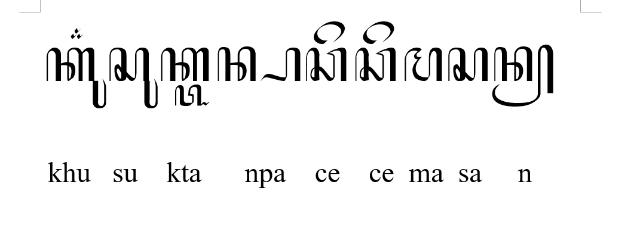-n: (492, 44, 554, 108)
_p: (260, 48, 300, 82)
_t: (174, 85, 210, 107)
alt: (70, 28, 84, 40)
c: (355, 47, 397, 83), (305, 48, 347, 82)
e: (362, 20, 394, 44), (314, 20, 344, 44)
k: (160, 48, 210, 82)
ku: (46, 46, 106, 110)
m: (403, 47, 443, 83)
n: (217, 46, 257, 84)
s: (447, 46, 489, 82)
su: (108, 48, 158, 108)
